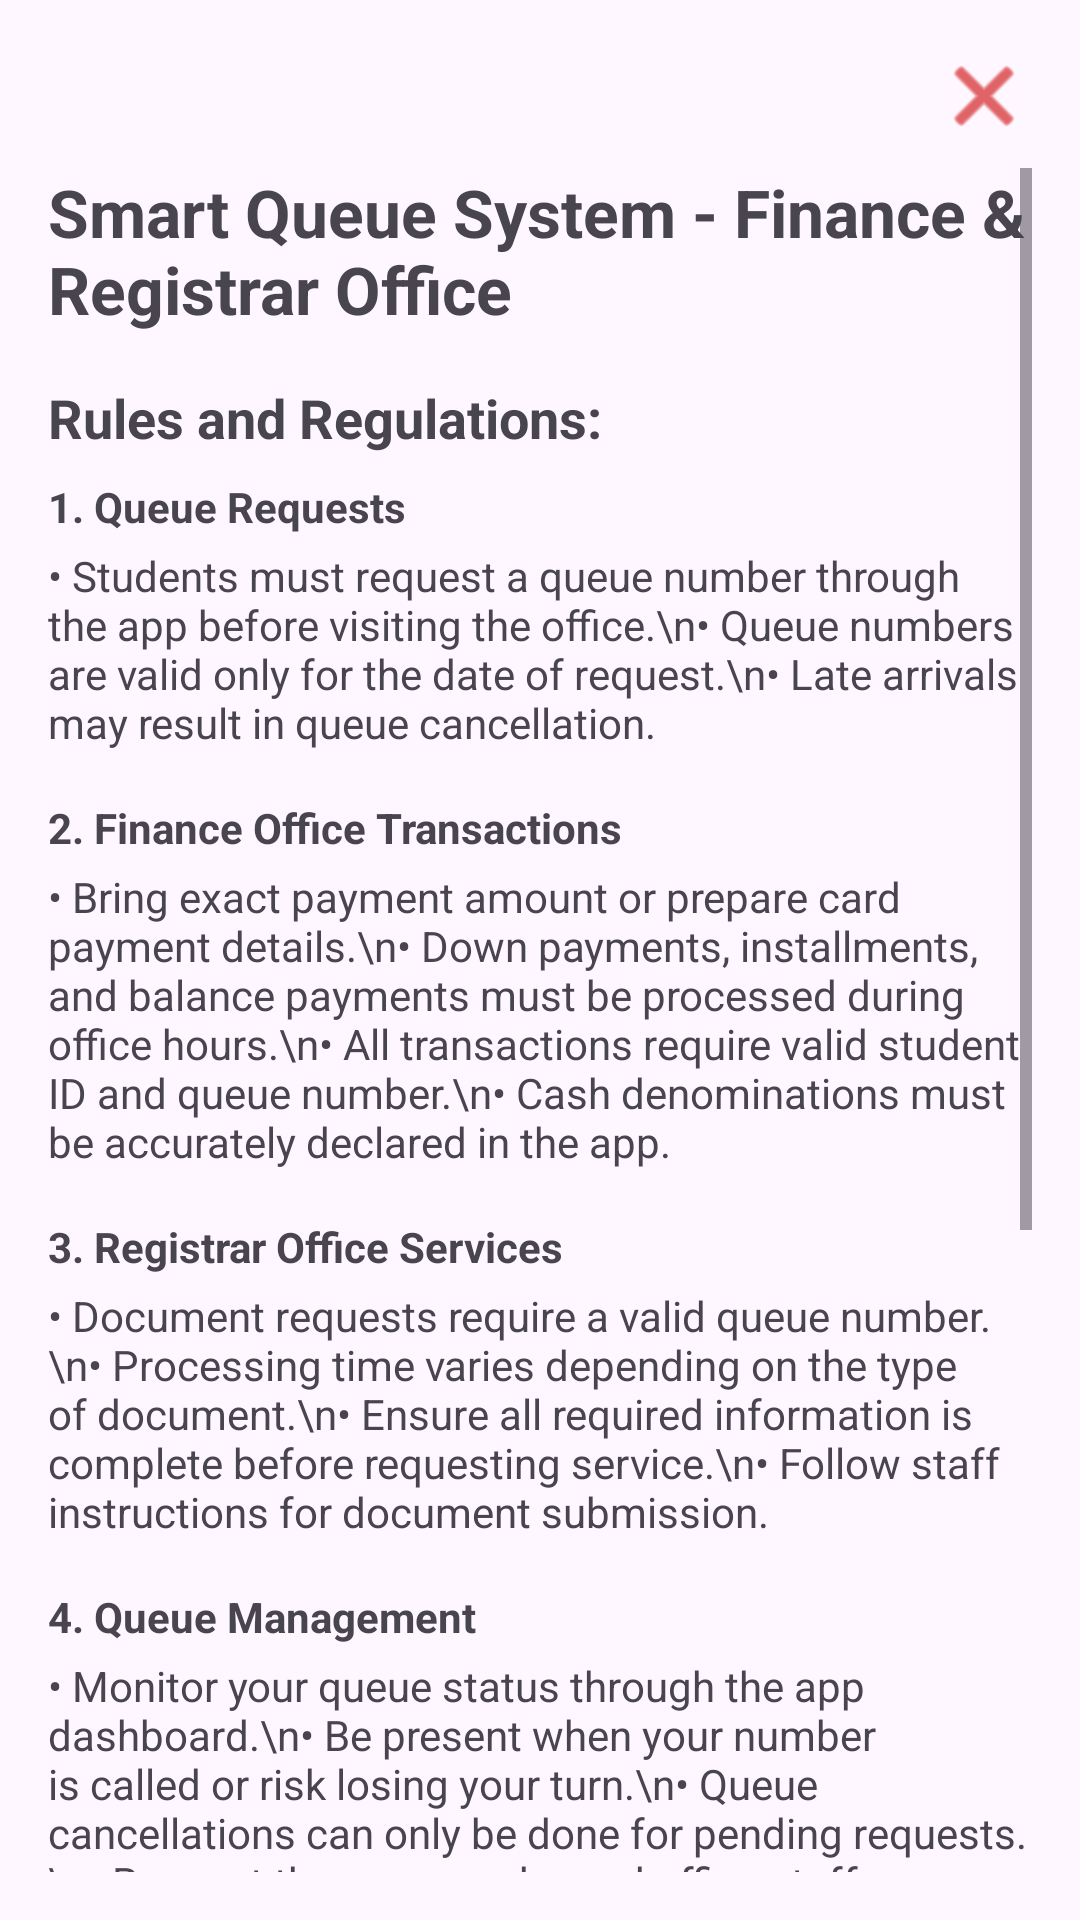

Locate icon controls on the screen. Image size 1080 x 1920, boxes as rect(x1, y1, x2, y2).
Close: rect(954, 66, 1014, 126)
